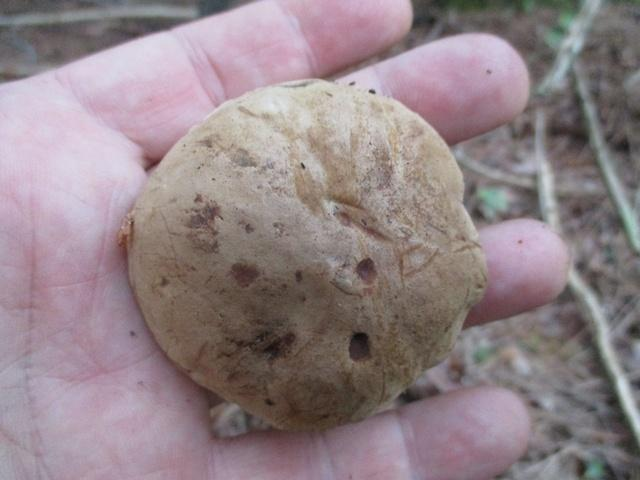Non-edible Mushroom: (117, 76, 489, 435)
